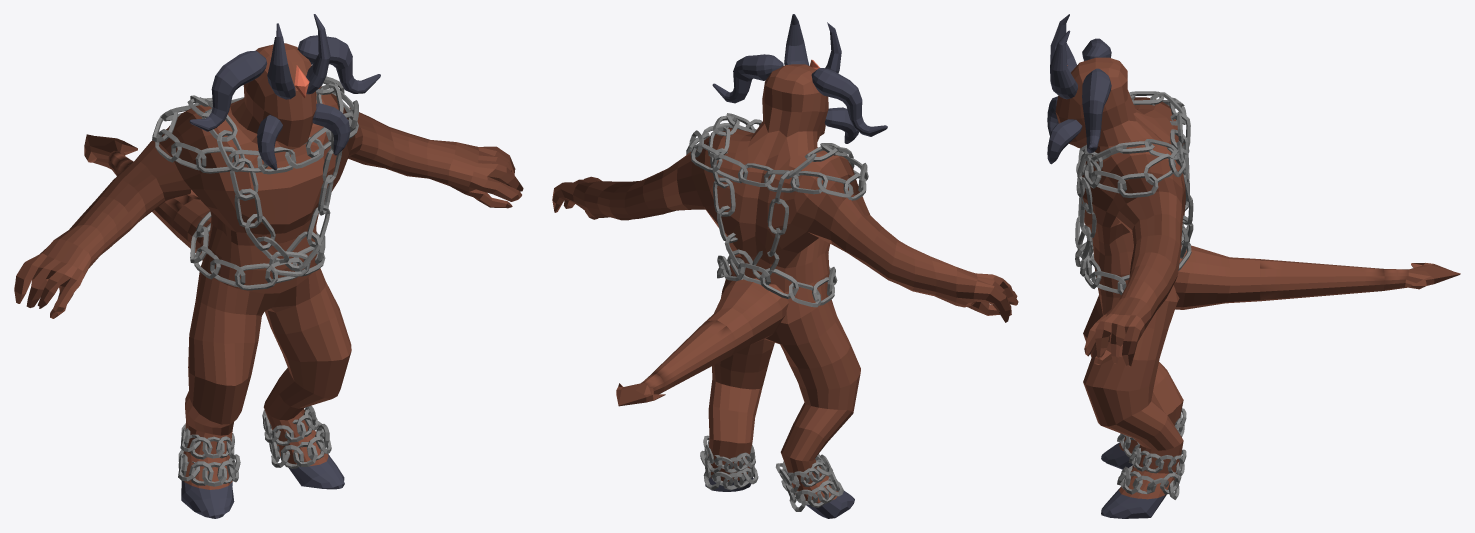
Rendered from Demon_Boss_Rig 1.fbx.
The picture shows the model from 3 angles, left to right: view 1: azimuth 30°, elevation 25°; view 2: azimuth 150°, elevation 25°; view 3: azimuth 270°, elevation 25°; orthographic projection. The views are drawn at different scales.
Visible parts, largest first — view 1: Boss_Body, Boss_Chains_Body, Boss_Horns_2, Boss_Tail, Boss_Chains_Leg_L, Boss_Chains_Leg_R, Boss_Horns_1, Boss_Horns_3; view 2: Boss_Body, Boss_Chains_Body, Boss_Tail, Boss_Horns_2, Boss_Chains_Leg_R, Boss_Chains_Leg_L, Boss_Horns_1, Boss_Horns_3; view 3: Boss_Body, Boss_Tail, Boss_Chains_Body, Boss_Horns_2, Boss_Chains_Leg_L, Boss_Horns_1, Boss_Horns_3.
Boxes of the visible parts, x1,y1,x2,y2 form: Boss_Body: (14, 43, 523, 518); Boss_Chains_Body: (152, 76, 358, 290); Boss_Horns_2: (189, 35, 380, 131); Boss_Tail: (84, 134, 211, 260); Boss_Chains_Leg_L: (262, 405, 331, 468); Boss_Chains_Leg_R: (178, 424, 240, 486); Boss_Horns_1: (267, 14, 330, 99); Boss_Horns_3: (257, 103, 350, 170); Boss_Body: (552, 64, 1018, 518); Boss_Chains_Body: (686, 113, 868, 307); Boss_Tail: (616, 278, 788, 406); Boss_Horns_2: (712, 54, 887, 136); Boss_Chains_Leg_R: (775, 454, 843, 511); Boss_Chains_Leg_L: (700, 435, 758, 490); Boss_Horns_1: (784, 14, 841, 73); Boss_Horns_3: (824, 107, 858, 143); Boss_Body: (1055, 57, 1185, 518); Boss_Tail: (1173, 245, 1460, 309); Boss_Chains_Body: (1075, 91, 1193, 295); Boss_Horns_2: (1082, 38, 1111, 152); Boss_Chains_Leg_L: (1117, 446, 1186, 499); Boss_Horns_1: (1050, 14, 1077, 99); Boss_Horns_3: (1047, 96, 1082, 164).
Bounding box in the file's own units: 3888 × 3706 × 2979.
